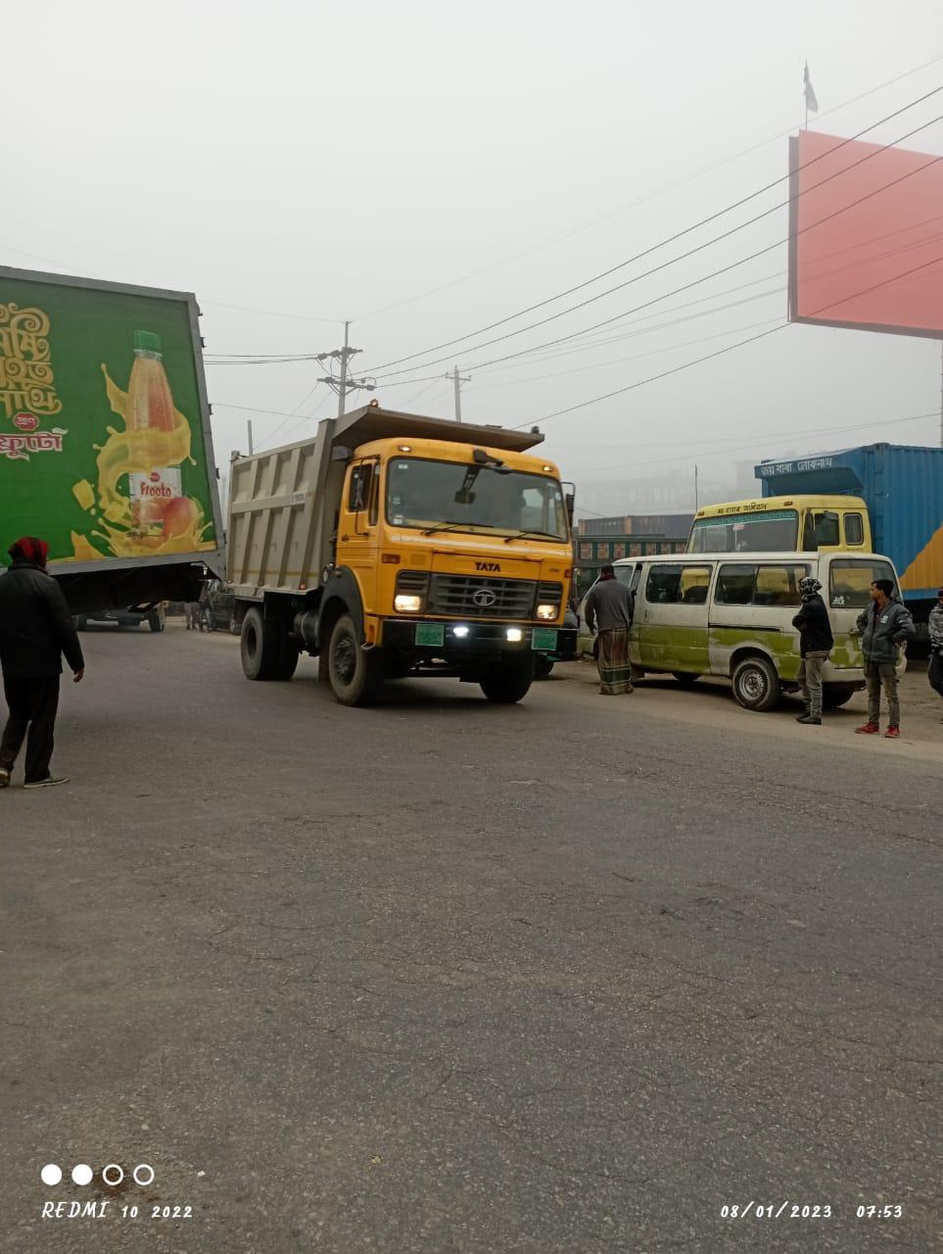Car: (581, 549, 903, 709)
Truck: (217, 401, 572, 714), (1, 244, 231, 632), (691, 426, 943, 612)
